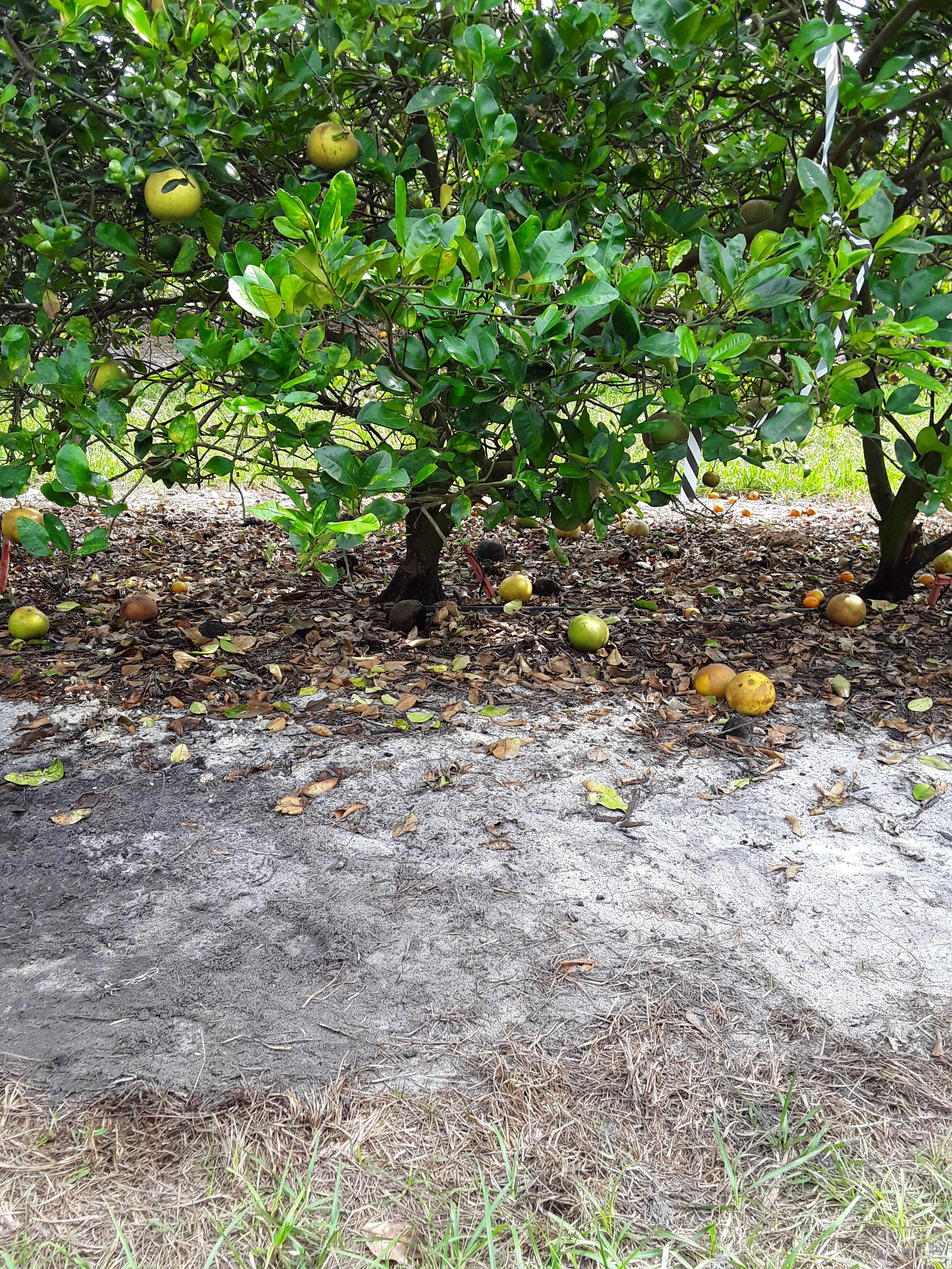fruit_on_ground: (140, 159, 208, 229), (434, 1, 502, 48), (498, 258, 558, 309), (305, 119, 362, 172), (88, 355, 140, 400), (642, 411, 697, 453), (1, 11, 46, 55), (0, 508, 52, 544), (384, 183, 429, 218), (737, 195, 777, 228), (550, 499, 585, 532), (153, 227, 184, 262), (40, 109, 72, 142), (140, 454, 180, 480), (740, 395, 772, 422), (822, 144, 853, 170), (857, 131, 887, 156), (143, 0, 172, 20), (2, 184, 17, 217), (1, 152, 11, 194), (702, 471, 723, 489), (751, 378, 772, 395)
fruit_on_tree: (727, 666, 784, 720), (565, 614, 618, 654), (827, 588, 872, 634), (689, 658, 738, 699), (387, 595, 433, 635), (121, 590, 163, 625), (534, 572, 572, 600), (495, 574, 534, 601), (475, 538, 508, 564), (513, 510, 546, 533), (201, 619, 231, 643), (623, 517, 654, 538), (551, 523, 581, 542), (167, 576, 194, 595), (931, 548, 952, 571), (336, 556, 360, 575), (802, 587, 828, 603), (577, 514, 600, 530), (913, 571, 934, 588), (682, 606, 703, 621), (802, 596, 821, 610), (838, 570, 856, 584), (756, 575, 775, 586), (711, 502, 728, 514), (788, 505, 803, 518), (747, 489, 763, 500), (742, 505, 754, 519), (805, 504, 817, 516), (746, 549, 760, 558), (727, 496, 740, 505), (708, 491, 719, 499), (718, 492, 728, 500), (799, 505, 807, 513)
